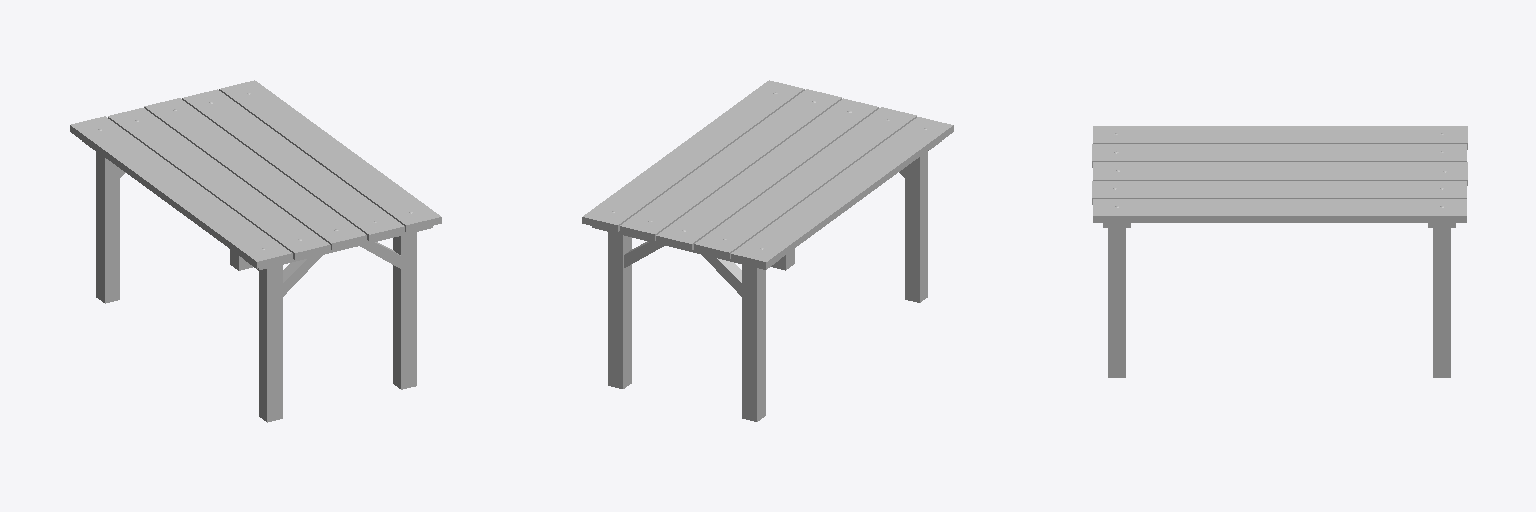
File: Table.obj
3 views of the same model, side by side, from view 1: azimuth 30°, elevation 25°; view 2: azimuth 150°, elevation 25°; view 3: azimuth 270°, elevation 25° (orthographic).
Visible parts, largest first — view 1: Table_Cube; view 2: Table_Cube; view 3: Table_Cube.
Part boxes in pixels (bbox=[...]): Table_Cube: bbox=[70, 80, 441, 422]; Table_Cube: bbox=[582, 80, 953, 421]; Table_Cube: bbox=[1092, 126, 1467, 377].
Bounding box in the file's own units: 0.85 × 0.7527 × 1.5.